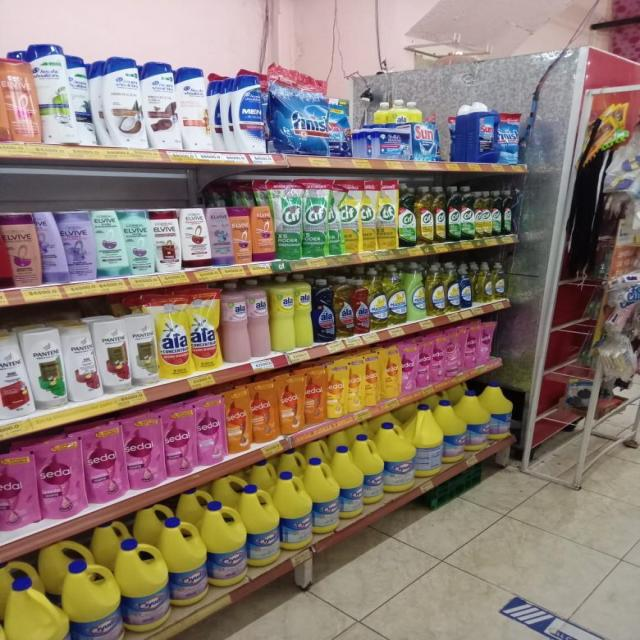ala_conc_amarillo: (334, 276, 352, 338)
ala_conc_azul: (313, 276, 334, 342)
ala_conc_rojo: (353, 275, 369, 334)
ala_crem_amarillo: (270, 275, 294, 352), (294, 275, 312, 348)
ala_crem_rosado: (221, 279, 248, 364), (248, 278, 270, 358)
ala_sachet_amarillo: (157, 292, 189, 378), (190, 287, 220, 372)
cif_conc_bot_amarilla: (417, 185, 433, 245), (434, 185, 446, 243), (474, 190, 487, 238)
cif_conc_botella_verde: (398, 185, 416, 248), (447, 186, 460, 242), (461, 187, 474, 240), (492, 190, 502, 236), (502, 190, 512, 235)
cif_conc_sachet_amarillo: (340, 179, 359, 254), (378, 178, 397, 250), (360, 179, 377, 252)
cif_conc_sachet_verde: (275, 179, 302, 260), (302, 180, 326, 257), (326, 179, 342, 256)
magistral_con_amarillo: (387, 264, 406, 326), (369, 268, 387, 330), (426, 262, 444, 316), (474, 262, 492, 303), (446, 262, 460, 312), (492, 261, 507, 300)
magistral_con_azul: (460, 263, 472, 308)
magistral_con_crema: (407, 262, 426, 321)
